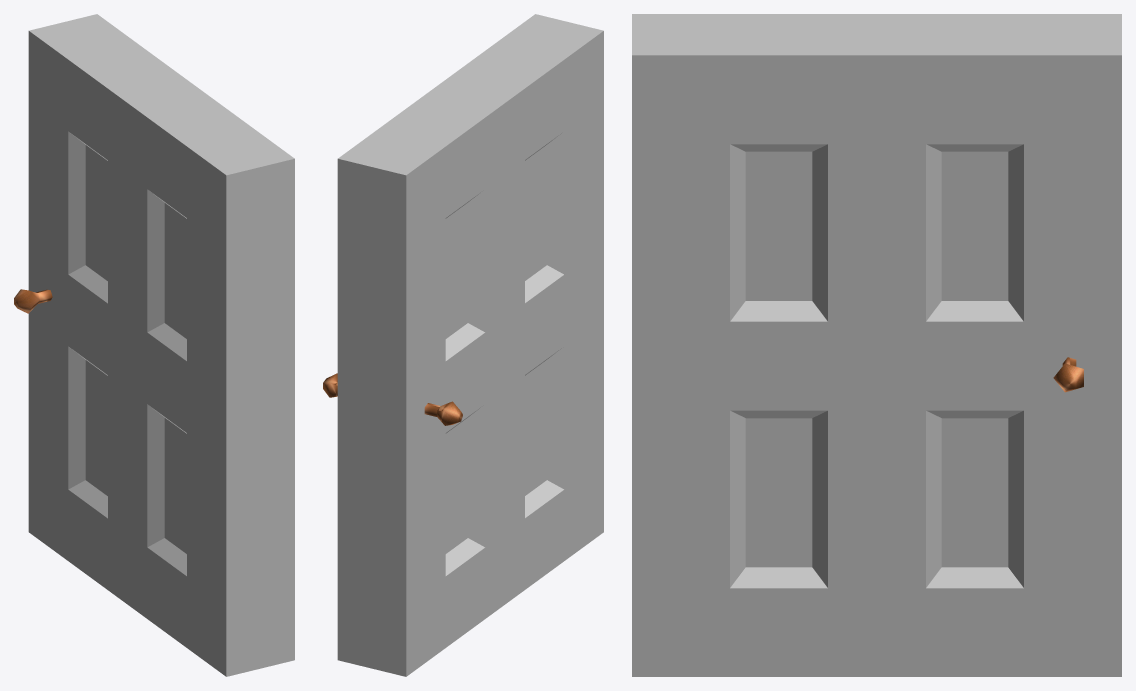
The model's file is magic dor.FBX.
3 renders of one model, left to right at view 1: azimuth 30°, elevation 25°; view 2: azimuth 150°, elevation 25°; view 3: azimuth 270°, elevation 25°, orthographic. The views are drawn at different scales.
Visible parts, largest first — view 1: Box005, Cylinder001; view 2: Box005, Cylinder001; view 3: Box005, Cylinder002.
Part boxes in pixels (bbox=[...]): Box005: bbox=[28, 14, 294, 676]; Cylinder001: bbox=[14, 289, 52, 313]; Box005: bbox=[337, 14, 603, 676]; Cylinder001: bbox=[424, 401, 462, 425]; Box005: bbox=[632, 14, 1121, 676]; Cylinder002: bbox=[1053, 357, 1083, 392].
Bounding box in the file's own units: 49.25 × 175 × 125.
